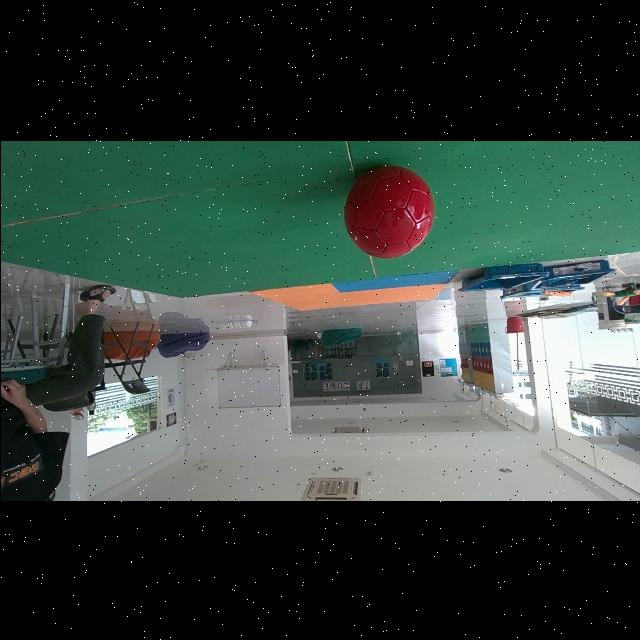R: (343, 165, 434, 257)
